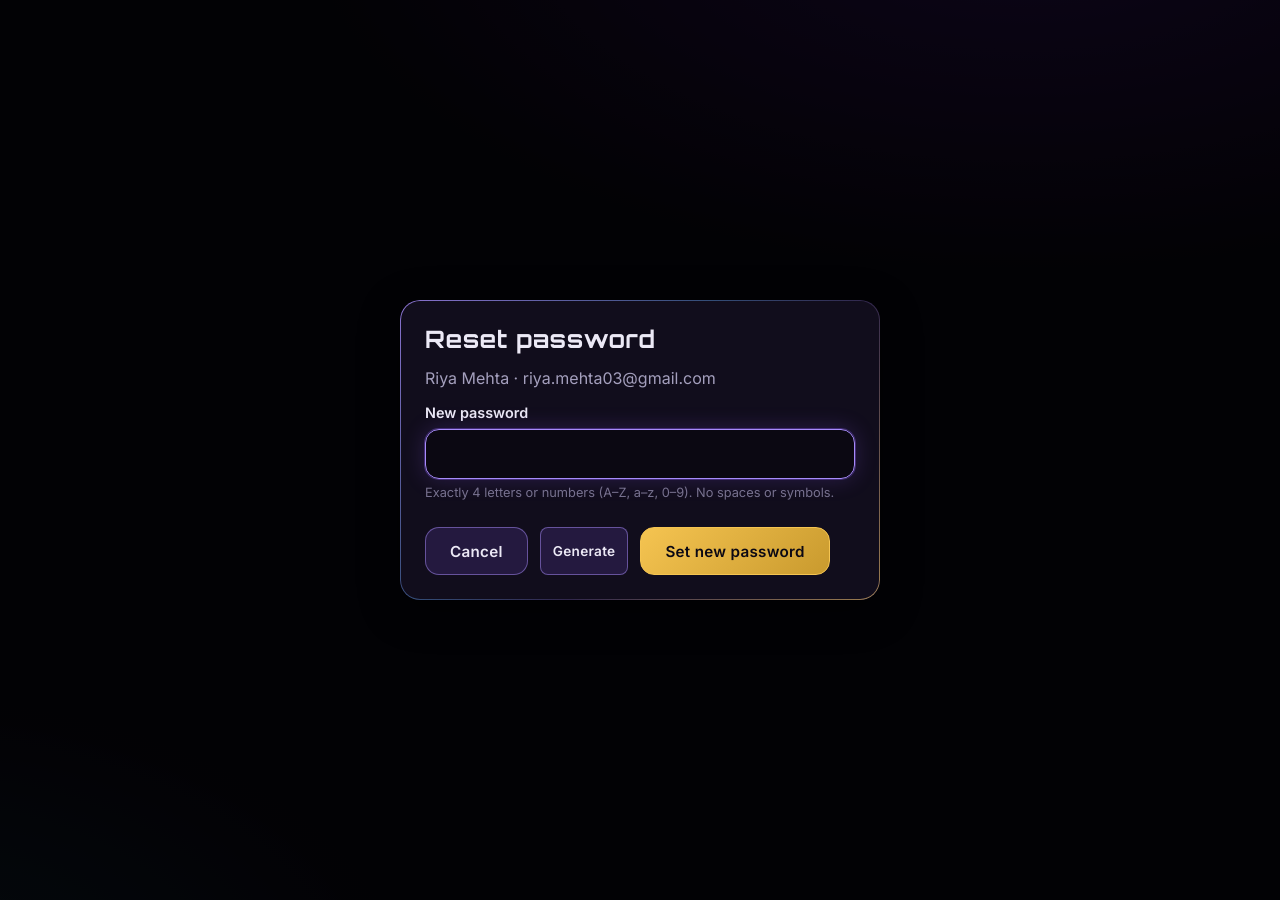
Test: ResetPasswordDialog › shows the server error when the reset is refused
The width and height of the screenshot is (1280, 900).
Type "Zz99" into the field labelled "New password". click: (640, 454)
box: [425,429,855,479]
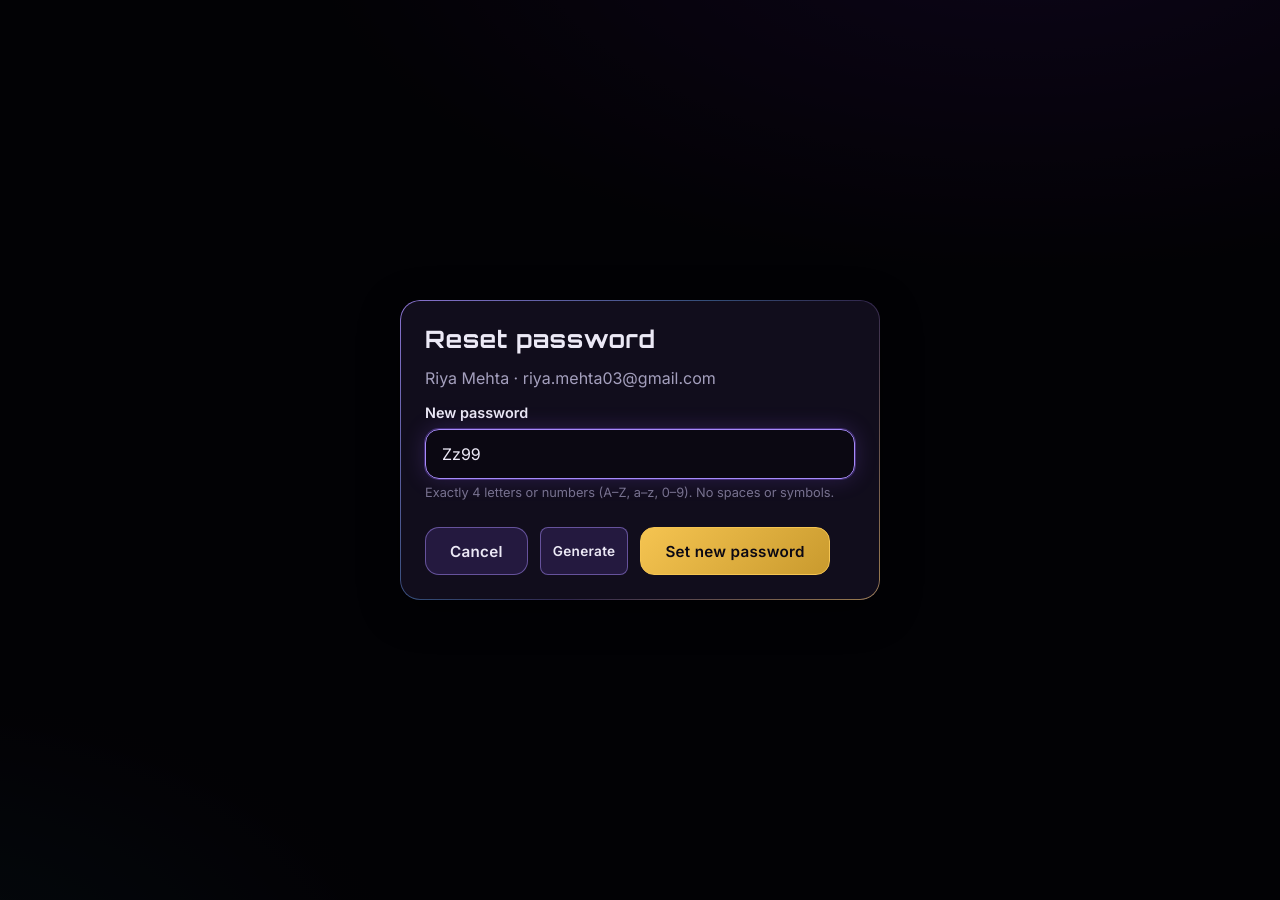
Click the button "Set new password". click: (735, 551)
box: [640,527,830,575]
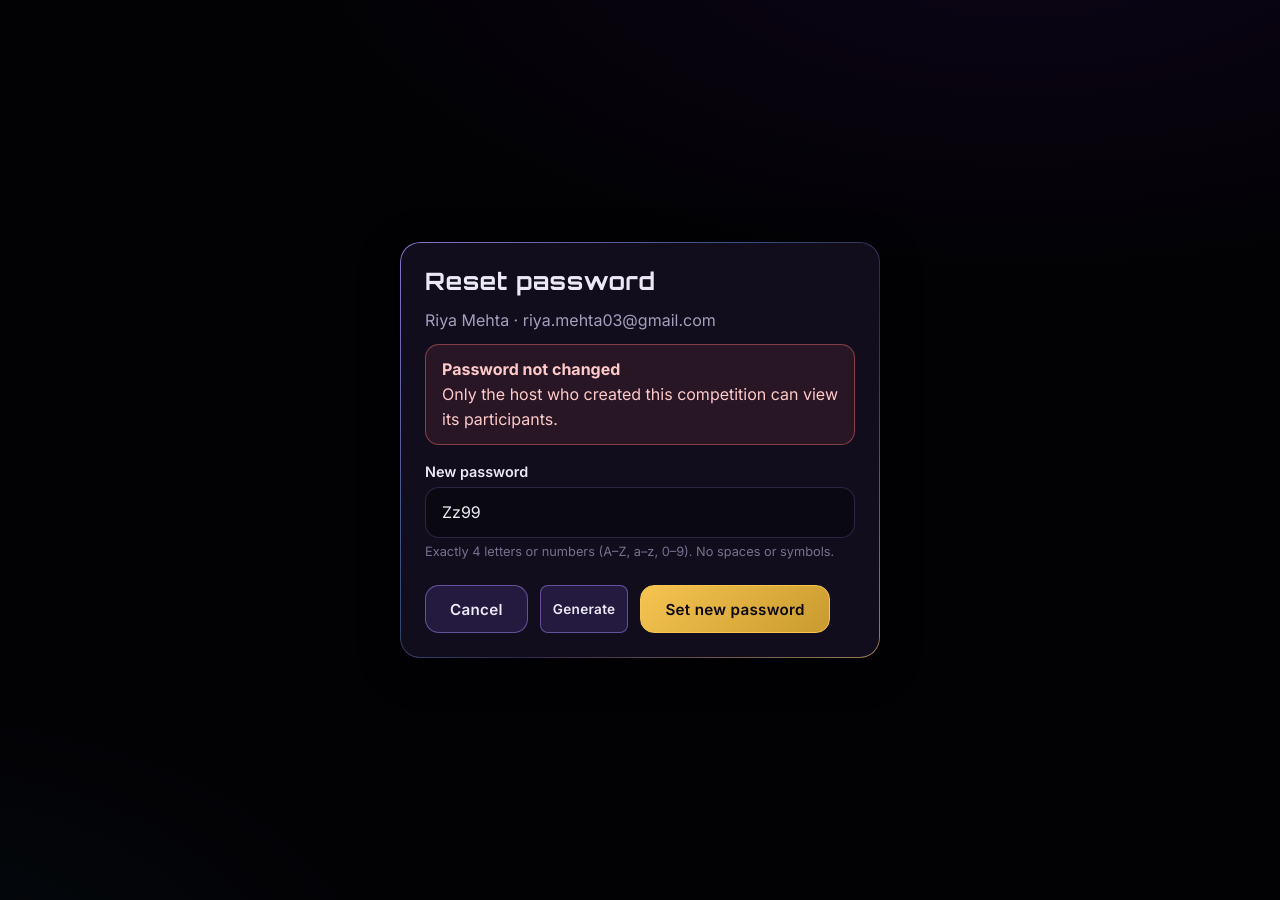
Now the text "Password not changed" is shown, box [442,359,620,379]
Now the text "Only the host who created this competition can view its participants." is shown, box [442,382,838,432]
